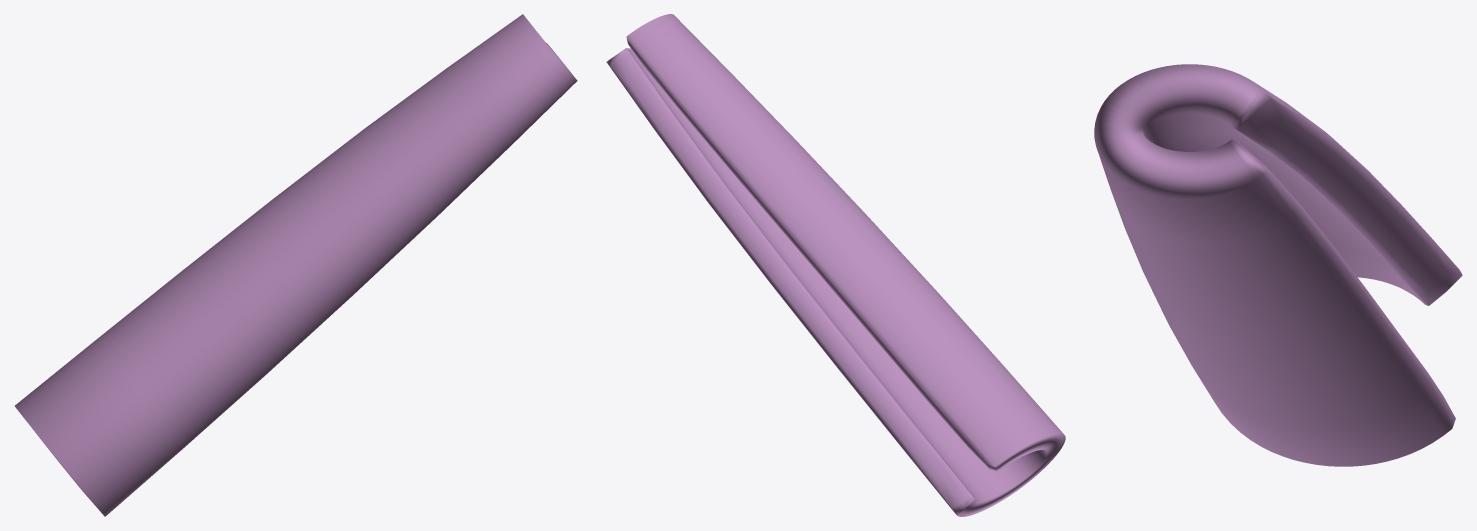
The picture shows the model from 3 angles, left to right: view 1: azimuth 30°, elevation 25°; view 2: azimuth 150°, elevation 25°; view 3: azimuth 270°, elevation 25°; orthographic projection. The views are drawn at different scales.
Visible parts, largest first — view 1: 左侧咽鼓管; view 2: 左侧咽鼓管; view 3: 左侧咽鼓管.
Boxes of the visible parts, <box> form: 左侧咽鼓管: <box>15,14,577,516</box>; 左侧咽鼓管: <box>606,14,1065,516</box>; 左侧咽鼓管: <box>1094,64,1462,466</box>.
Bounding box in the file's own units: 0.0317 × 0.0249 × 0.011.
